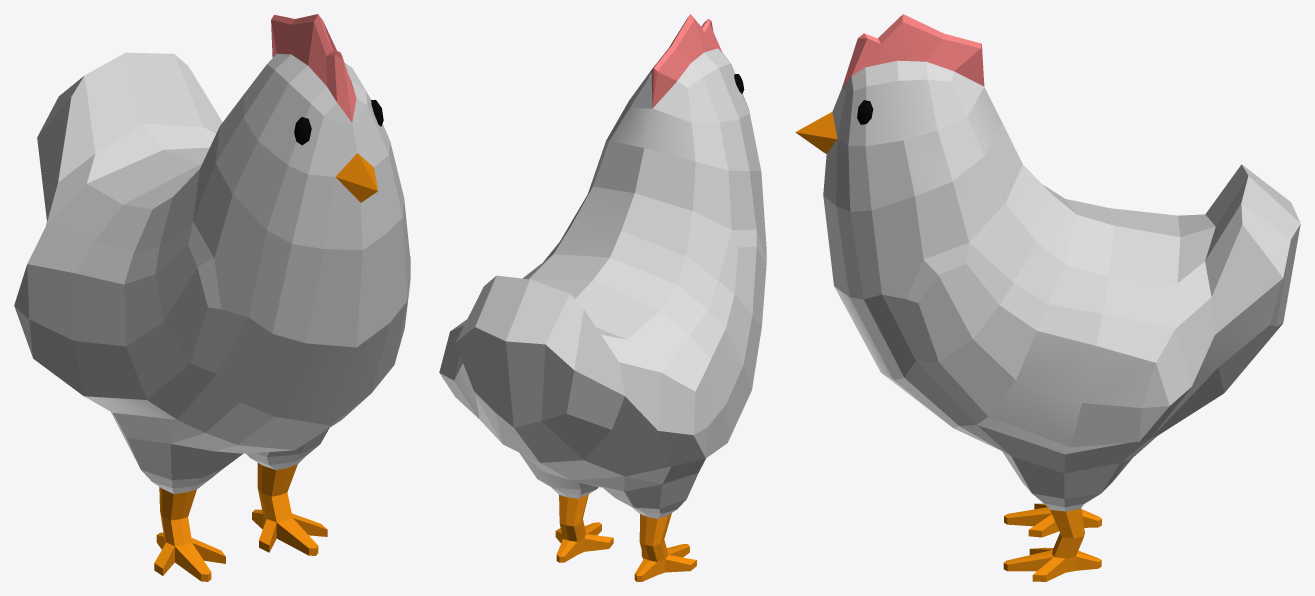
File: chiken.fbx
3 views of the same model, side by side, from view 1: azimuth 30°, elevation 25°; view 2: azimuth 150°, elevation 25°; view 3: azimuth 270°, elevation 25° (orthographic). The views are drawn at different scales.
Visible parts, largest first — view 1: Chicken; view 2: Chicken; view 3: Chicken.
Boxes of the visible parts, x1,y1,x2,y2 form: Chicken: (14,14,410,581); Chicken: (439,14,766,581); Chicken: (795,14,1300,581).
Size of the model in its own units: 0.0599 by 0.1097 by 0.0945.
